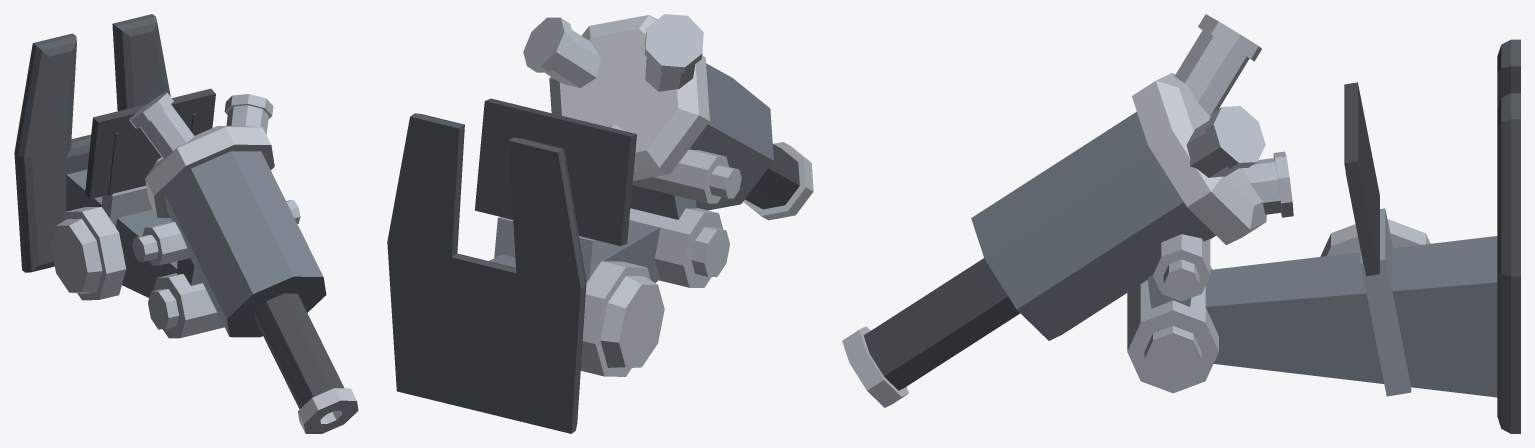
File: machine_microscope.obj
The picture shows the model from 3 angles, left to right: view 1: azimuth 30°, elevation 25°; view 2: azimuth 150°, elevation 25°; view 3: azimuth 270°, elevation 25°; orthographic projection. The views are drawn at different scales.
Parts seen in each view (by area): view 1: Cube.457, Cube.454, Cube.456, Cube.458, Cube.455; view 2: Cube.454, Cube.457, Cube.456, Cube.455, Cube.458; view 3: Cube.457, Cube.454, Cube.455, Cube.458, Cube.456.
Part boxes in pixels (<box>): Cube.457: <box>132,126,358,433</box>; Cube.454: <box>14,14,215,297</box>; Cube.456: <box>50,207,126,300</box>; Cube.458: <box>148,258,224,338</box>; Cube.455: <box>129,92,273,165</box>; Cube.454: <box>387,98,660,433</box>; Cube.457: <box>549,15,813,220</box>; Cube.456: <box>580,261,664,376</box>; Cube.455: <box>523,14,703,131</box>; Cube.458: <box>629,185,729,287</box>; Cube.457: <box>842,73,1266,407</box>; Cube.454: <box>1205,39,1520,433</box>; Cube.455: <box>1174,14,1293,217</box>; Cube.458: <box>1127,265,1218,393</box>; Cube.456: <box>1320,219,1430,256</box>.
Bounding box in the file's own units: 0.1602 × 0.2573 × 0.4403.
1 material, 1 textured.
